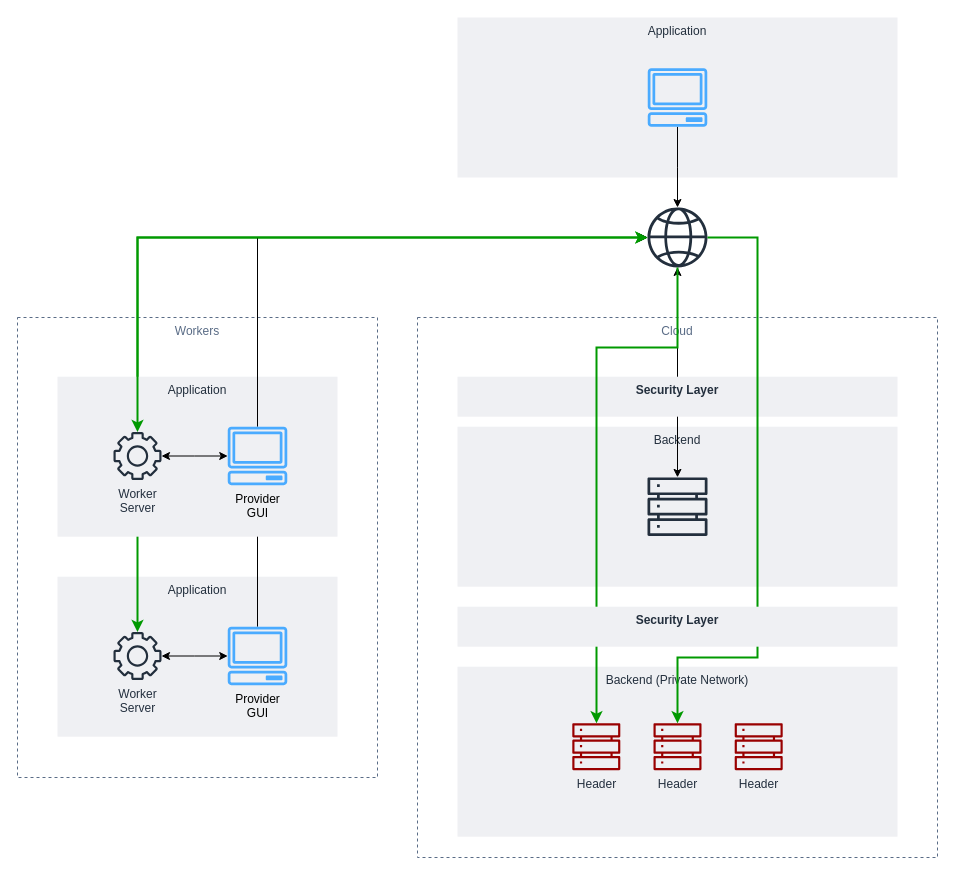
Some shapes in this 955 by 875 pixel diagram are drawn without their labels. The centre of each missing label's shape, as x and y in pixels:
"Consumer GUI" goes at pixel 677 97.
"Internet" goes at pixel 677 237.
"Walnut" goes at pixel 677 506.
